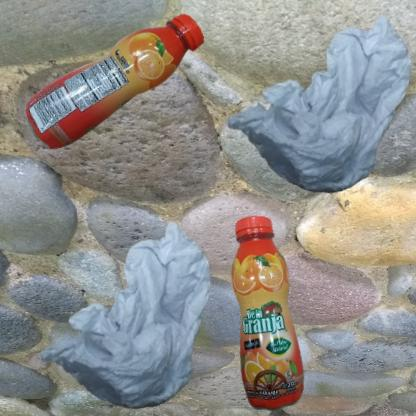botella: (10, 10, 252, 173), (213, 213, 331, 416)
papel: (10, 213, 269, 416), (213, 10, 416, 213)
